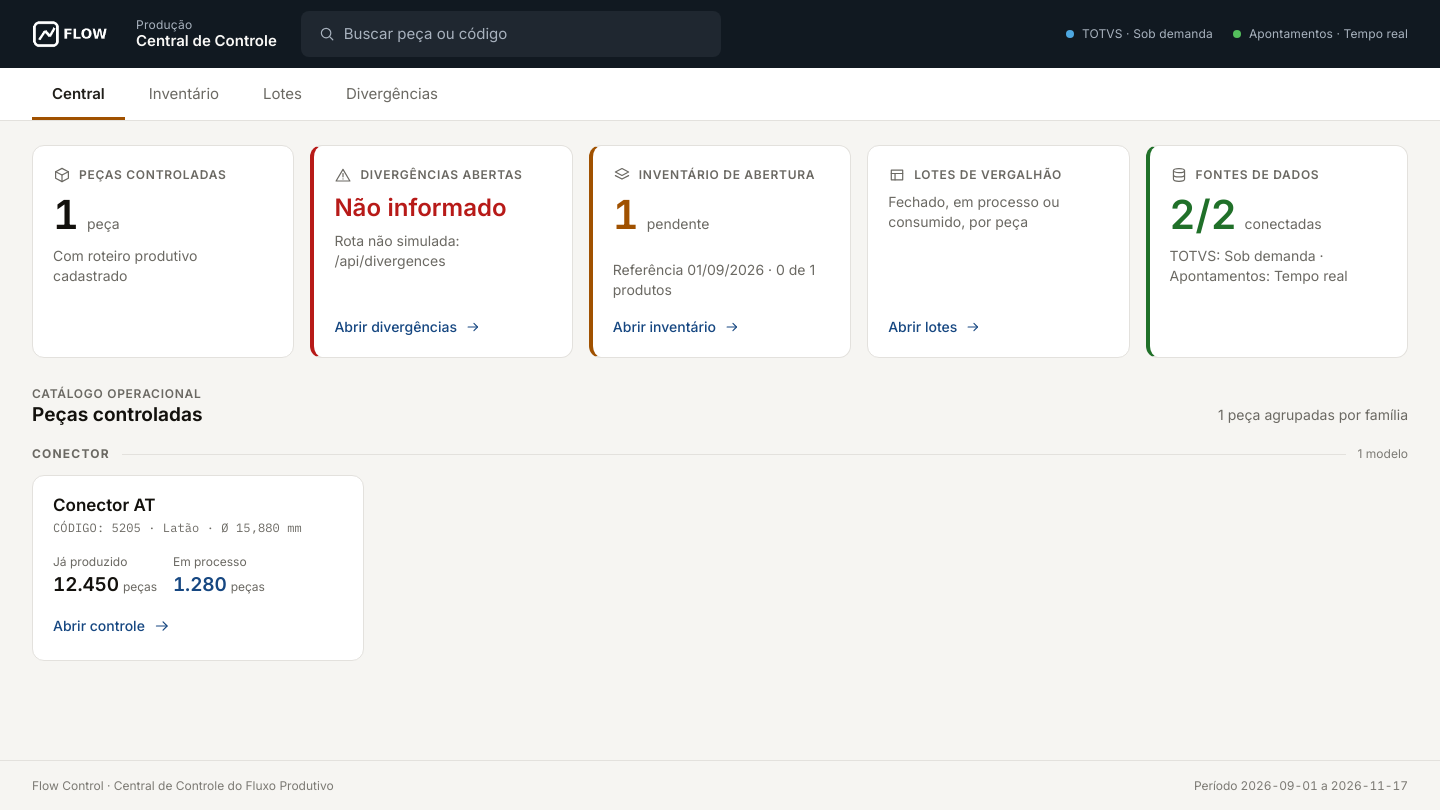
Test: Central de Controle › filtra o catálogo pela busca da faixa de comando
Expected: the button with aria-label "Abrir controle de Conector AT" is shown, [32, 475, 364, 661]
Type "suporte" into the search field labelled "Buscar peça ou código" at (524, 34), box [344, 12, 704, 56]
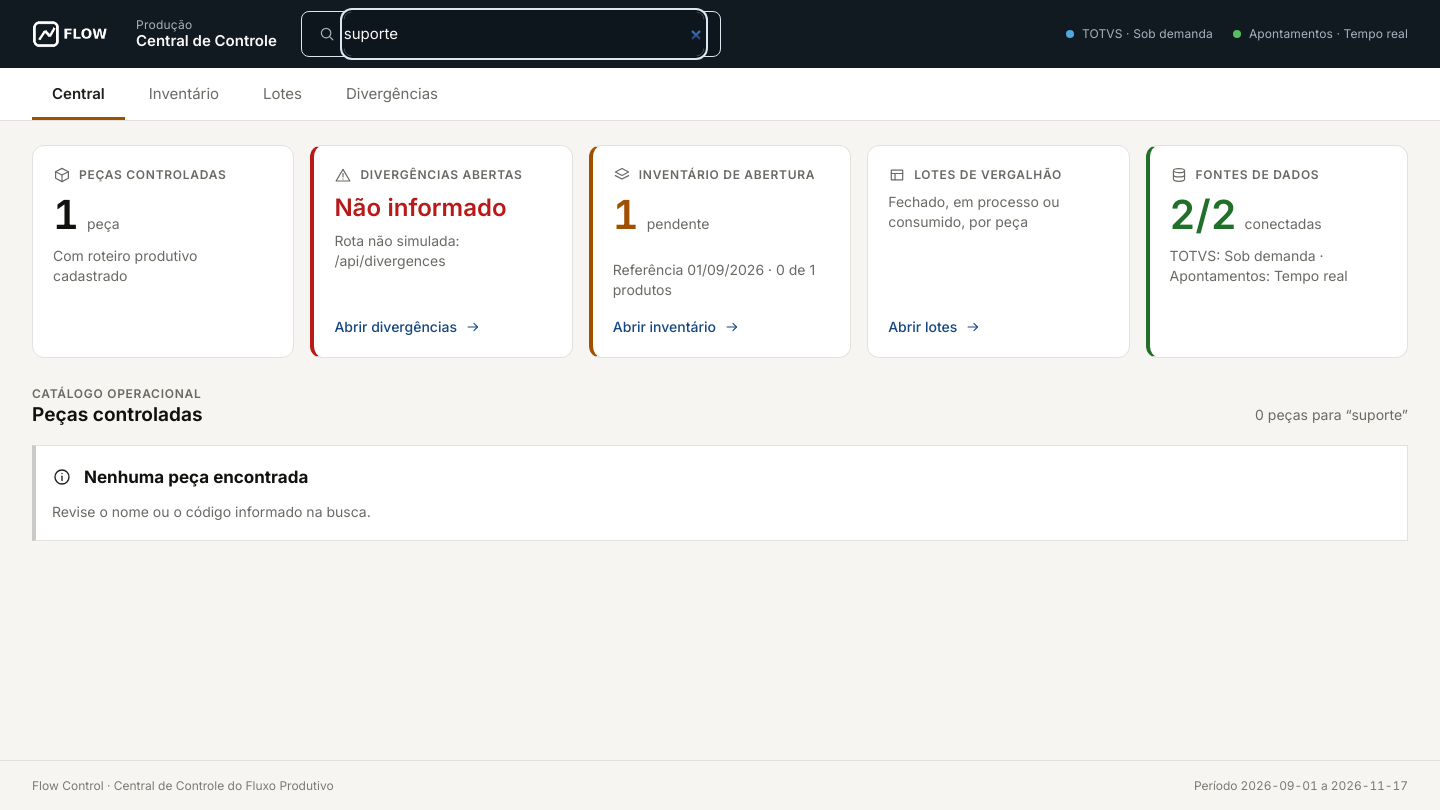
Expected: the text "Nenhuma peça encontrada" is shown, [84, 465, 308, 490]
